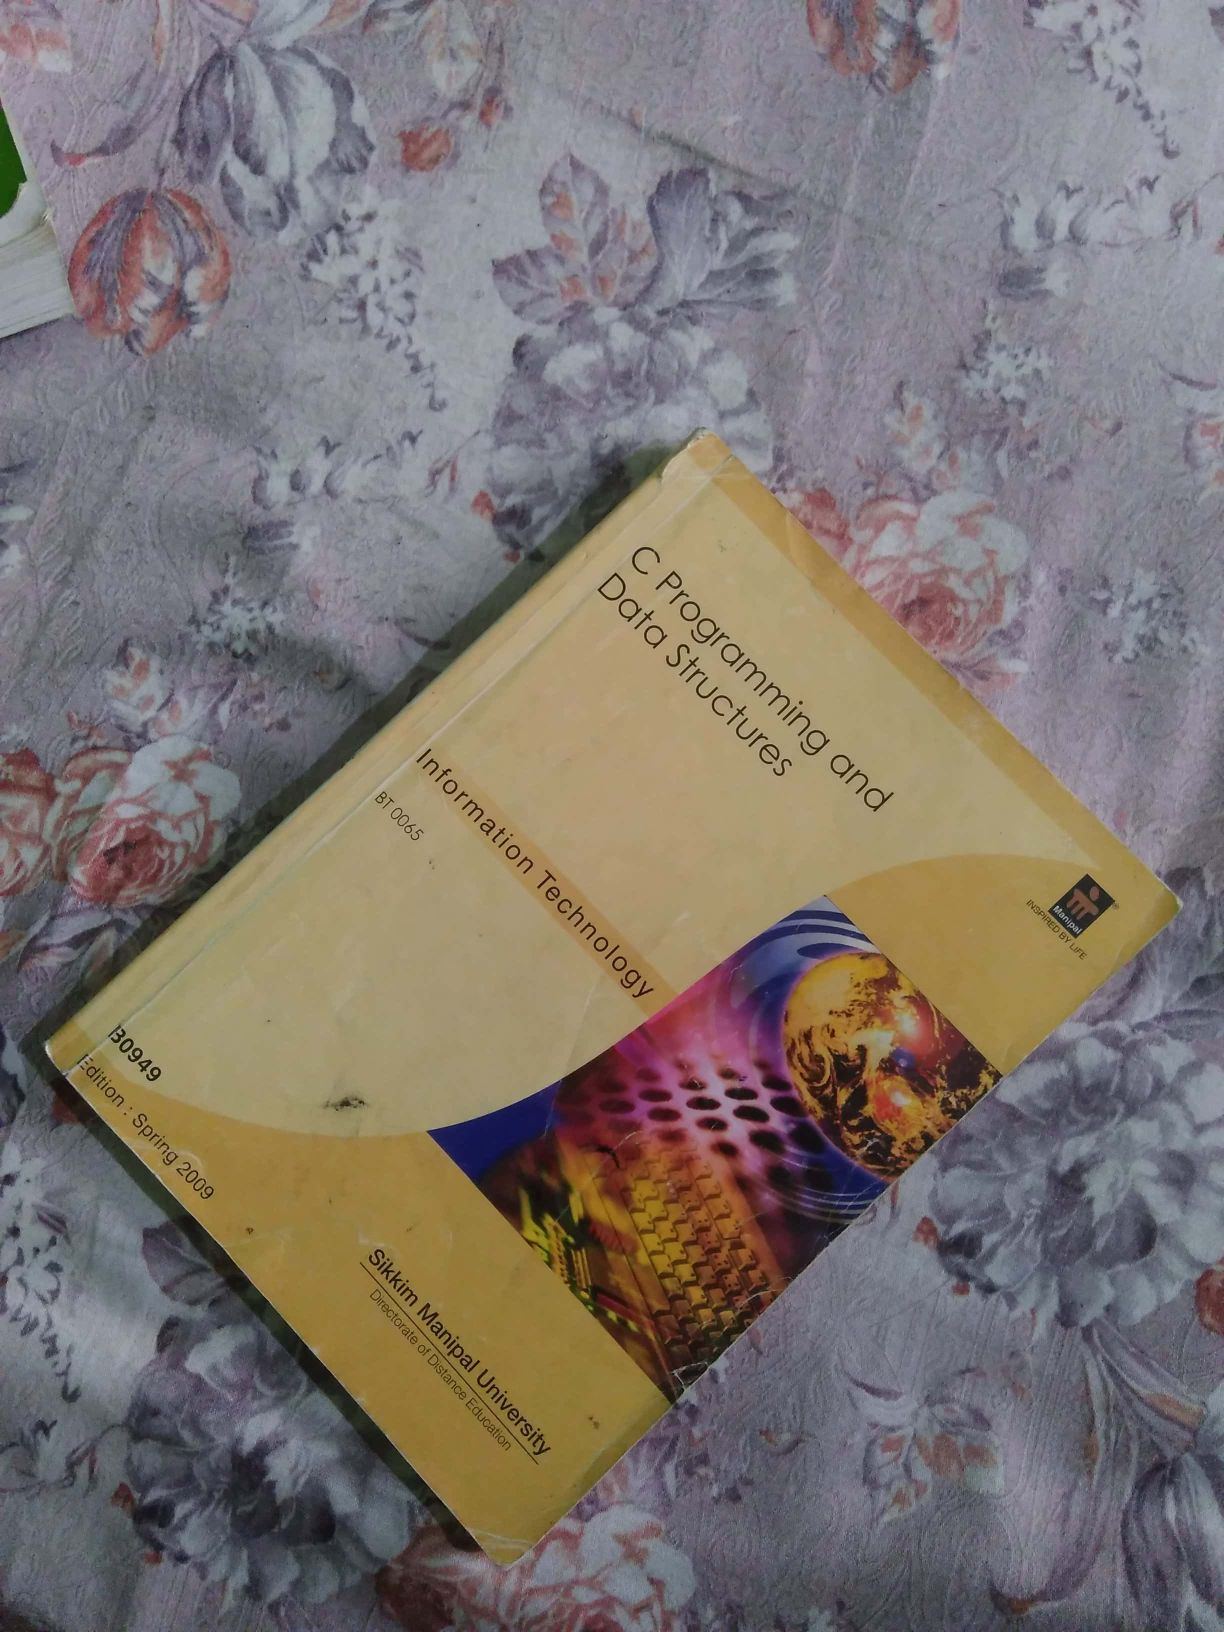clang: (69, 436, 1158, 1537)
